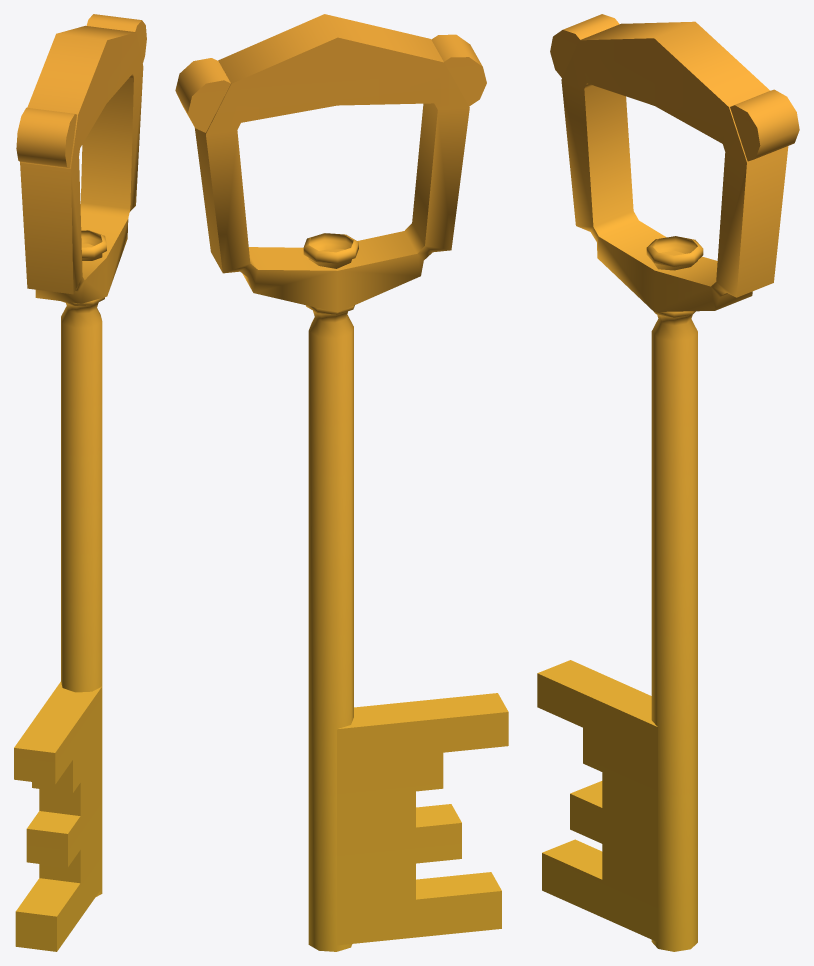
Rendered from key.fbx.
3 renders of one model, left to right at view 1: azimuth 30°, elevation 25°; view 2: azimuth 150°, elevation 25°; view 3: azimuth 270°, elevation 25°, orthographic. The views are drawn at different scales.
Parts seen in each view (by area): view 1: bow; view 2: bow; view 3: bow.
Part boxes in pixels (x1,y1,x2,y2): bow: [14, 14, 146, 951]; bow: [175, 14, 508, 951]; bow: [537, 14, 799, 951].
Size of the model in its own units: 72.33 by 266 by 69.42.
